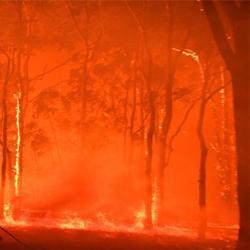fire: (15, 93, 21, 194), (2, 204, 28, 227), (59, 217, 86, 228), (151, 193, 160, 224), (136, 206, 145, 227)
